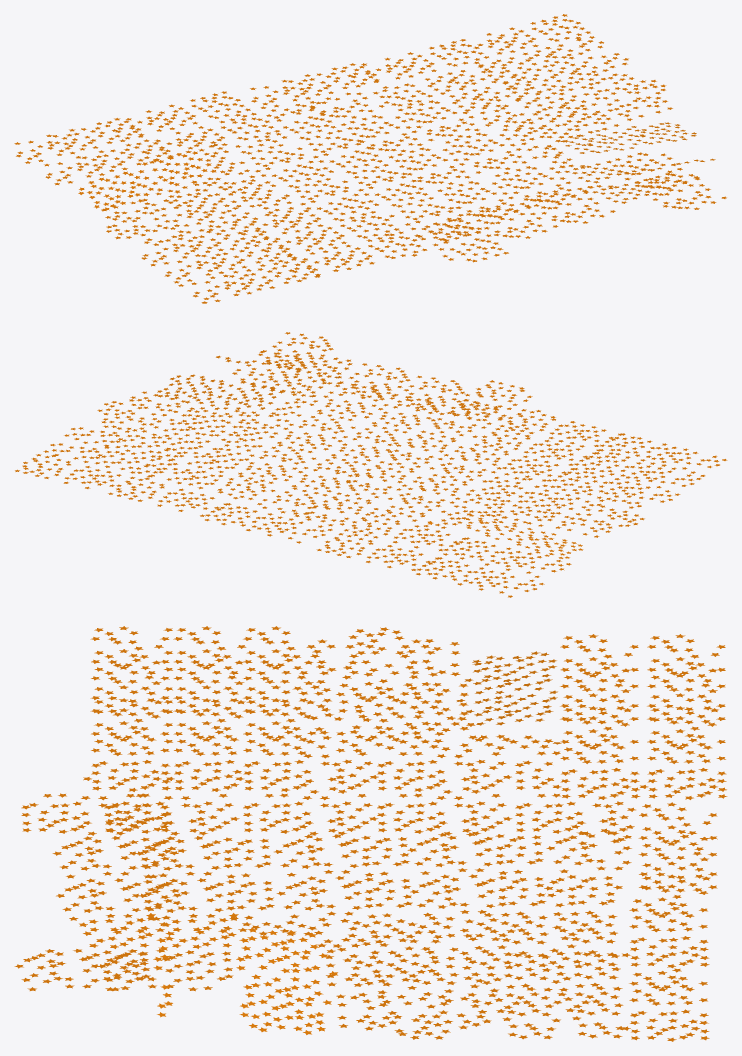
File: stars_9.glb
3 views of the same model, one above another, from view 1: azimuth 30°, elevation 25°; view 2: azimuth 150°, elevation 25°; view 3: azimuth 270°, elevation 25° (orthographic). The views are drawn at different scales.
Bounding box in the file's own units: 177 × 4.33 × 129.
